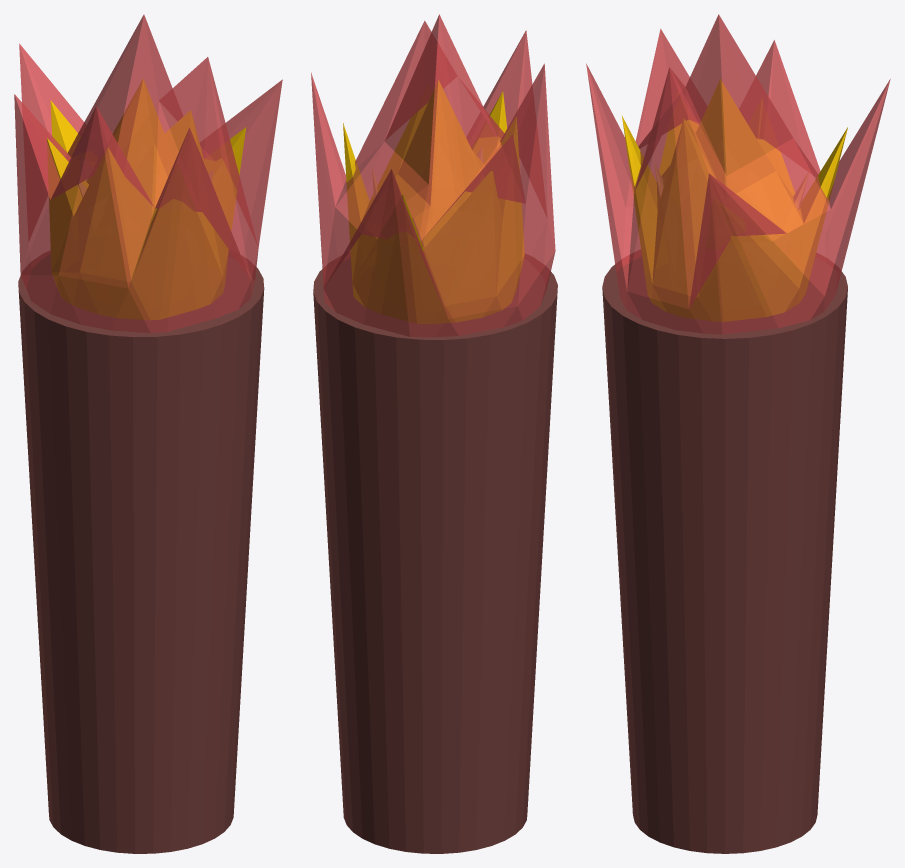
File: torch.fbx
The picture shows the model from 3 angles, left to right: view 1: azimuth 30°, elevation 25°; view 2: azimuth 150°, elevation 25°; view 3: azimuth 270°, elevation 25°; orthographic projection.
Visible parts, largest first — view 1: Cylinder, Icosphere, Icosphere.001; view 2: Cylinder, Icosphere, Icosphere.001; view 3: Cylinder, Icosphere, Icosphere.001.
Boxes of the visible parts, <box> form: Cylinder: <box>18,251,264,853</box>; Icosphere: <box>14,14,282,332</box>; Icosphere.001: <box>47,79,246,319</box>; Cylinder: <box>313,252,557,853</box>; Icosphere: <box>311,14,555,337</box>; Icosphere.001: <box>343,80,524,323</box>; Cylinder: <box>602,250,847,853</box>; Icosphere: <box>586,14,890,334</box>; Icosphere.001: <box>622,79,847,321</box>.
Bounding box in the file's own units: 225 × 719 × 248.
